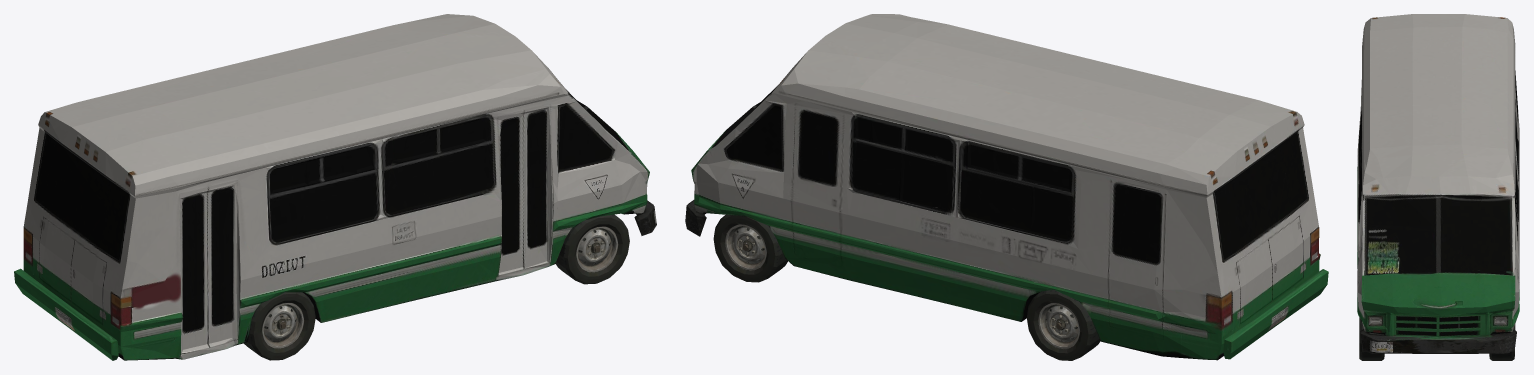
The model's file is micro.glb.
The picture shows the model from 3 angles, left to right: view 1: azimuth 30°, elevation 25°; view 2: azimuth 150°, elevation 25°; view 3: azimuth 270°, elevation 25°; orthographic projection. The views are drawn at different scales.
Visible parts, largest first — view 1: chasis, Wheel_FR, Wheel_RR; view 2: chasis, Wheel_RL, Wheel_FL; view 3: chasis, Wheel_FR, Wheel_FL.
Boxes of the visible parts, x1,y1,x2,y2 form: chasis: (14,14,656,360); Wheel_FR: (555,214,629,284); Wheel_RR: (244,292,315,360); chasis: (685,14,1328,360); Wheel_RL: (1027,289,1100,360); Wheel_FL: (713,215,787,282); chasis: (1357,14,1519,353); Wheel_FR: (1359,317,1384,360); Wheel_FL: (1489,324,1515,360).
Bounding box in the file's own units: 1 × 0.3843 × 0.3282.
Materials: 5 (5 with a texture image).
